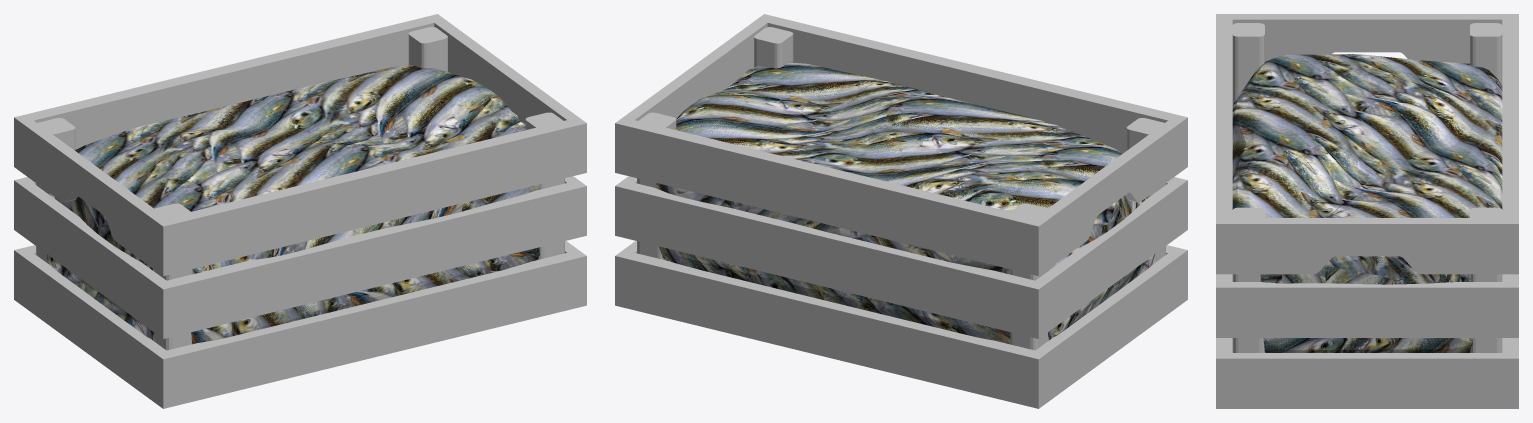
The model's file is wooden_crate_fish.fbx.
The picture shows the model from 3 angles, left to right: view 1: azimuth 30°, elevation 25°; view 2: azimuth 150°, elevation 25°; view 3: azimuth 270°, elevation 25°; orthographic projection.
Parts seen in each view (by area): view 1: Crate_Fish; view 2: Crate_Fish; view 3: Crate_Fish.
Boxes of the visible parts, left/top/right/bottom form: Crate_Fish: left=14, top=14, right=586, bottom=408; Crate_Fish: left=615, top=14, right=1187, bottom=408; Crate_Fish: left=1216, top=14, right=1518, bottom=408.
Bounding box in the file's own units: 2.12 × 0.8701 × 1.29.
